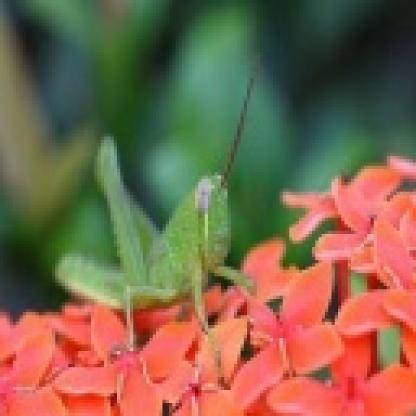grasshopper: (44, 123, 256, 351)
